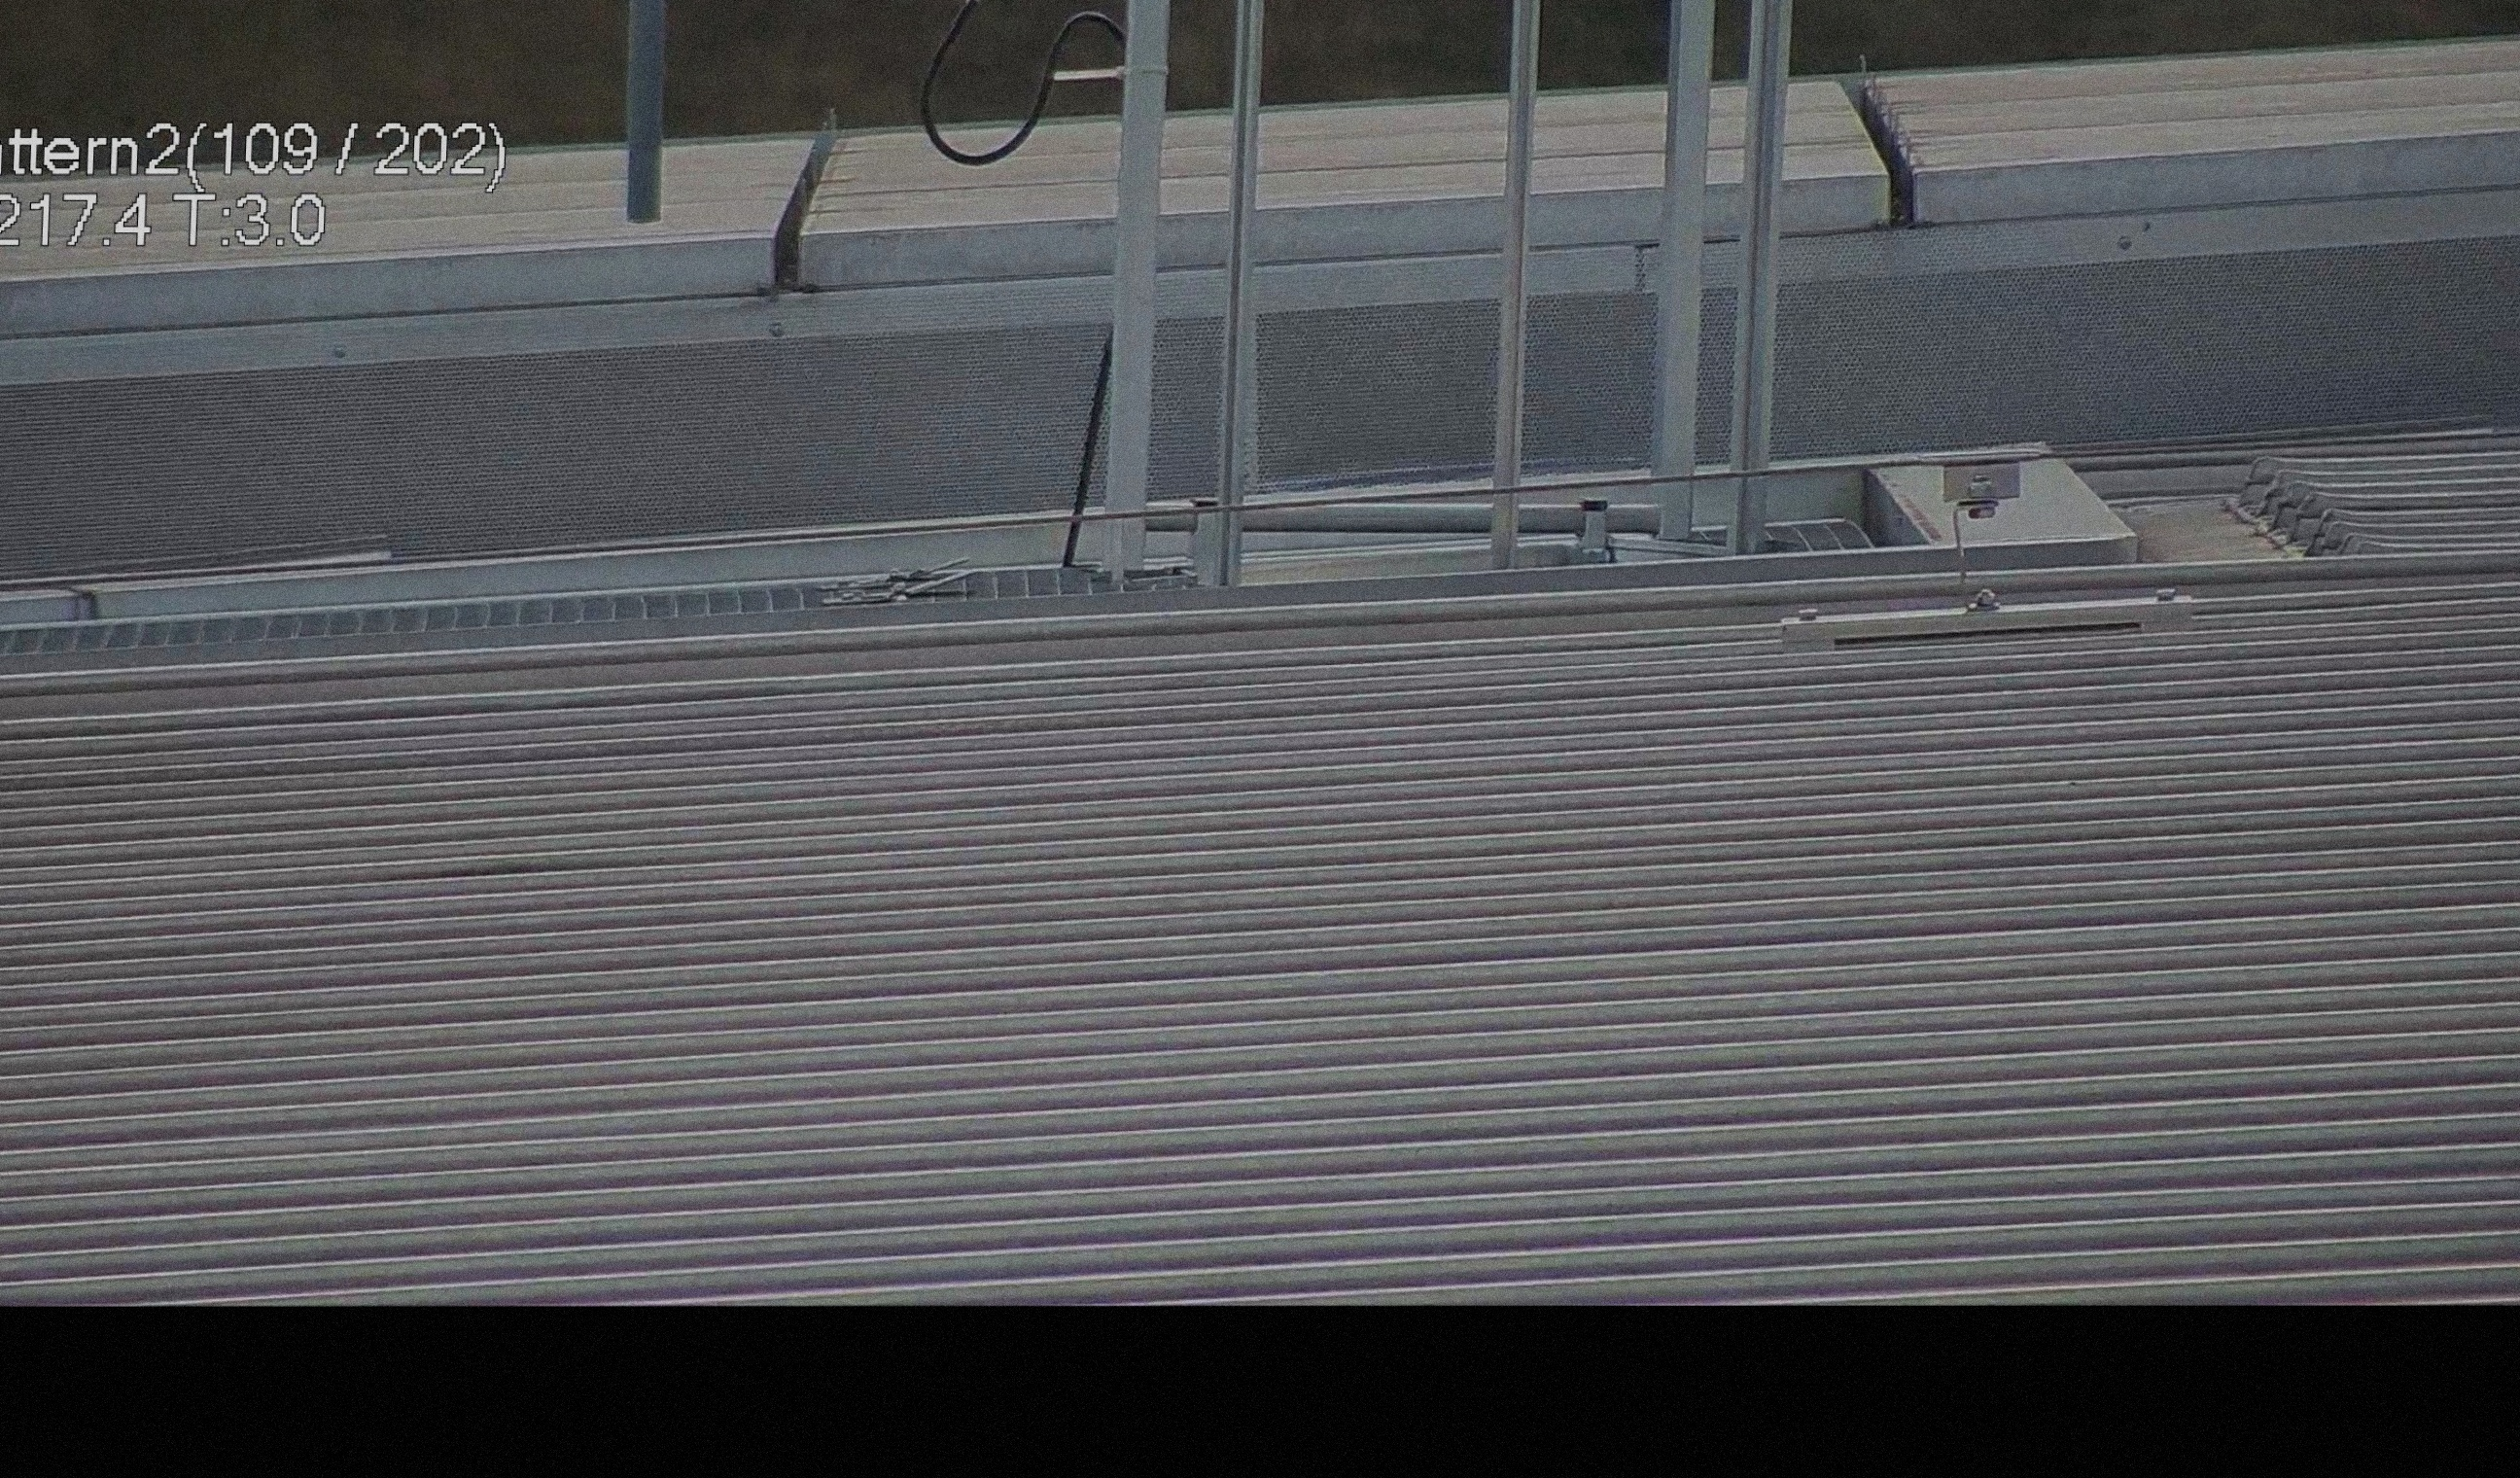Other: (1825, 51, 1952, 229)
